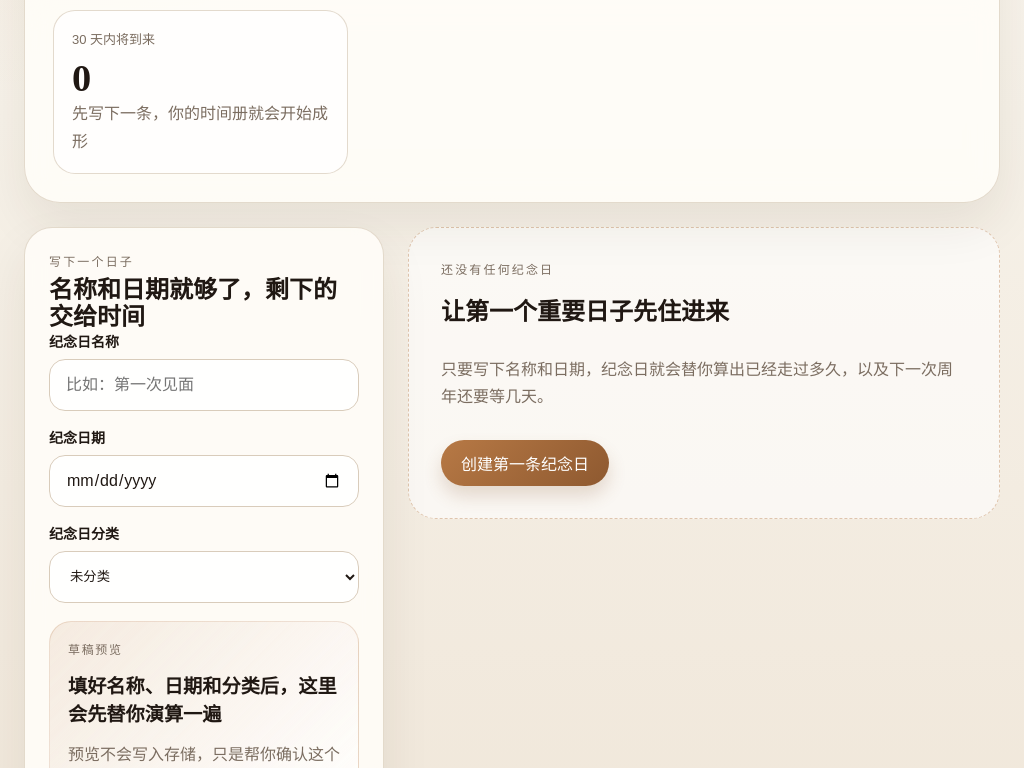
Test: AnniversaryForm › 日期为空时阻止提交并显示错误
(page scrolled)
Type "领养小猫" into the field labelled "纪念日名称" at (204, 384), box [49,358,359,410]
(page scrolled)
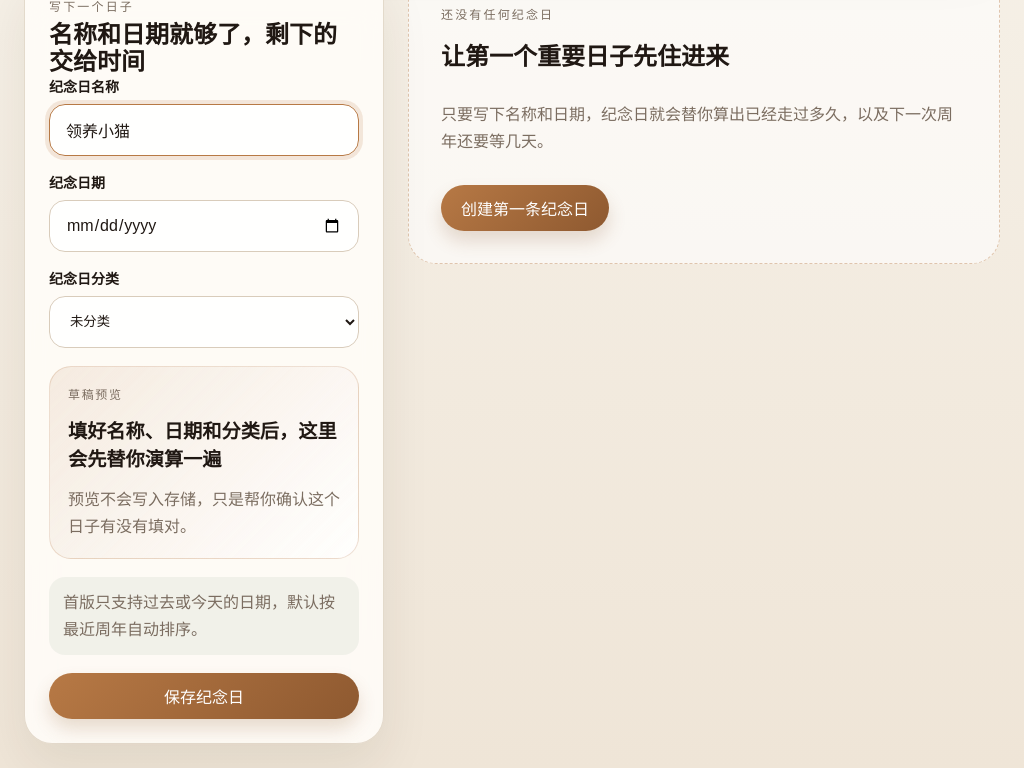
Click the button "保存纪念日" at (204, 696), box [49,673,359,719]
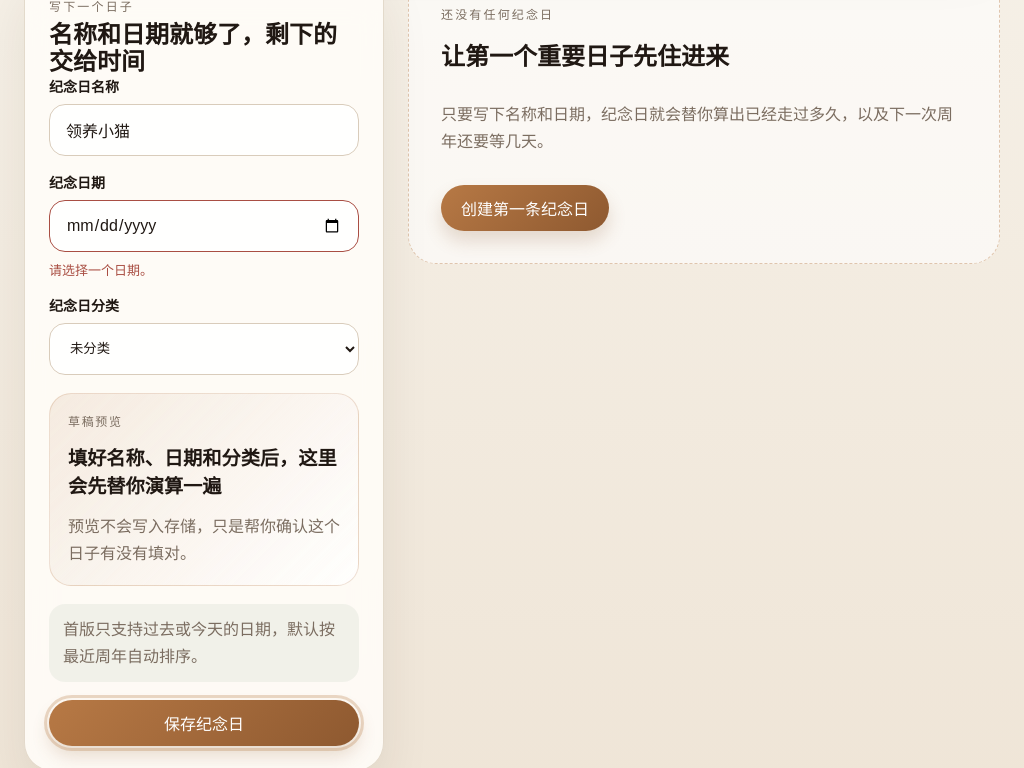
Expected: the text "请选择一个日期。" is shown, [49,262,153,278]
